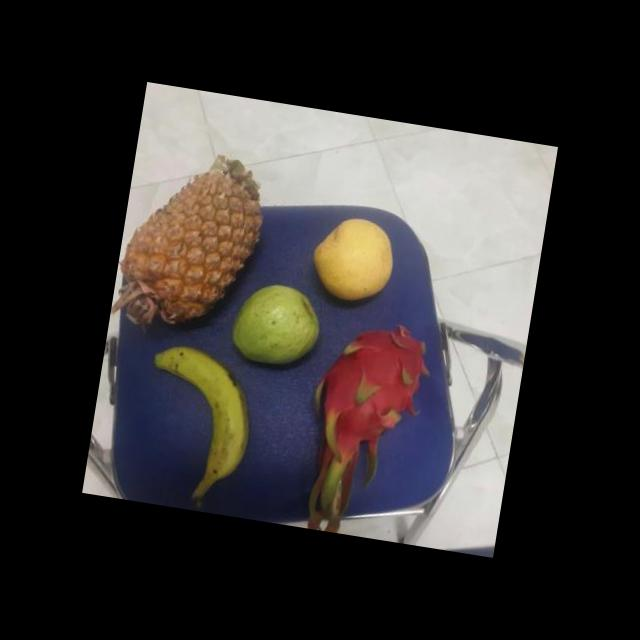banana: (141, 347, 265, 487)
guava: (228, 279, 329, 372)
pear: (304, 212, 404, 308)
pineapple: (116, 155, 268, 338)
pitaya: (308, 318, 438, 466)
